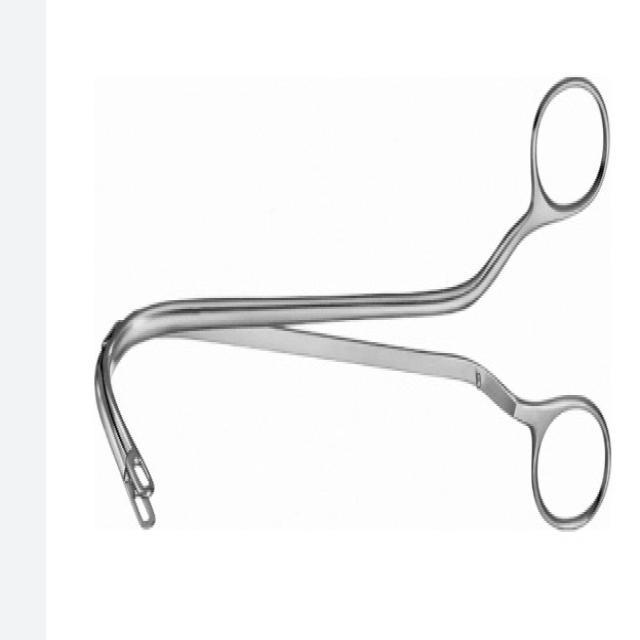Randall: (90, 67, 615, 538)
